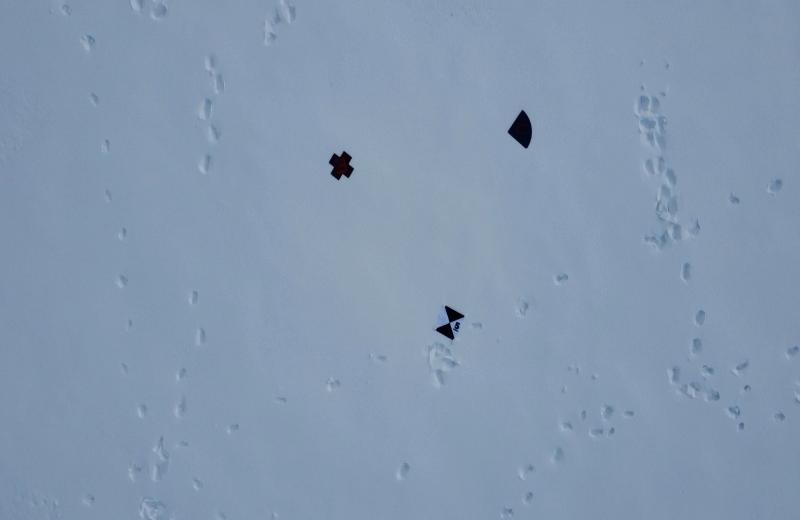Cross: (321, 147, 359, 185)
Quarter Circle: (506, 105, 534, 152)
